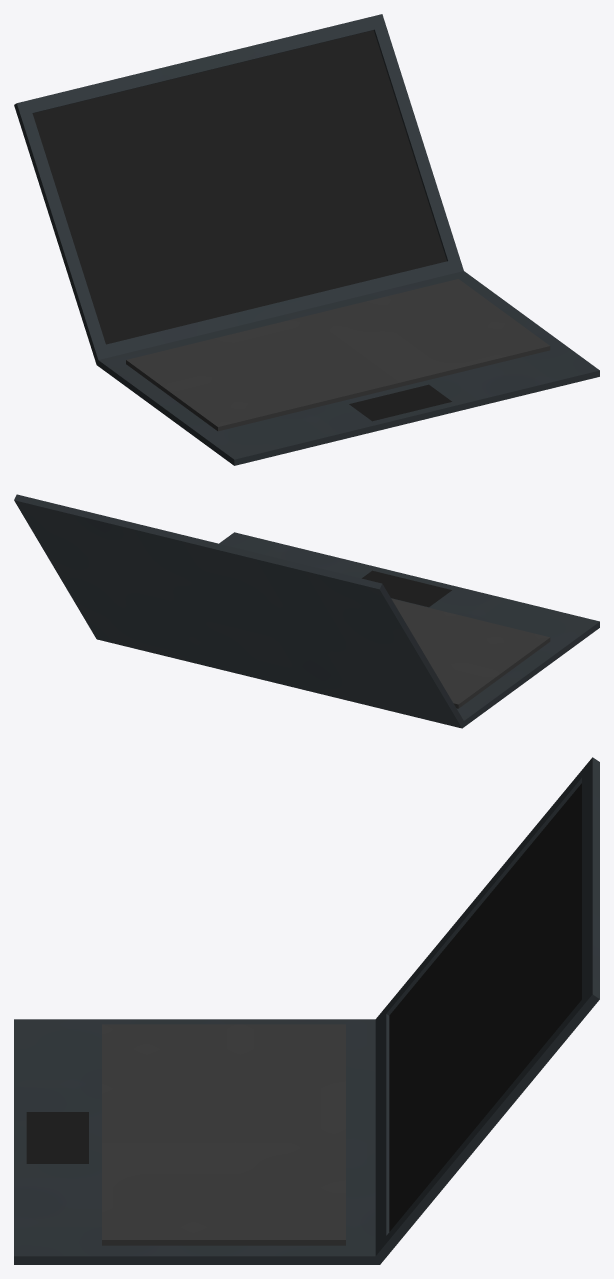
File: Laptop_02.fbx
3 views of the same model, one above another, from view 1: azimuth 30°, elevation 25°; view 2: azimuth 150°, elevation 25°; view 3: azimuth 270°, elevation 25° (orthographic). The views are drawn at different scales.
Visible parts, largest first — view 1: Laptop_02; view 2: Laptop_02; view 3: Laptop_02.
Part boxes in pixels (x1,y1,x2,y2): Laptop_02: (14, 14, 599, 465); Laptop_02: (14, 494, 599, 728); Laptop_02: (14, 757, 599, 1264).
Bounding box in the file's own units: 0.6087 × 0.3237 × 0.6355.
